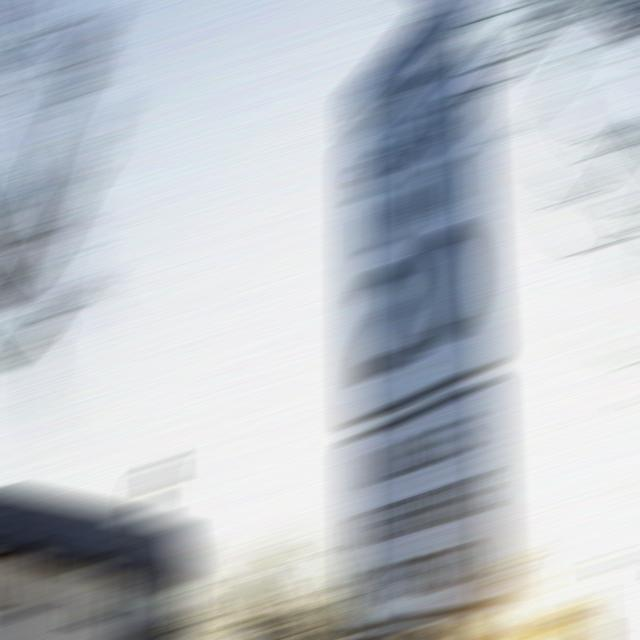speedLimit20: (348, 87, 479, 418)
